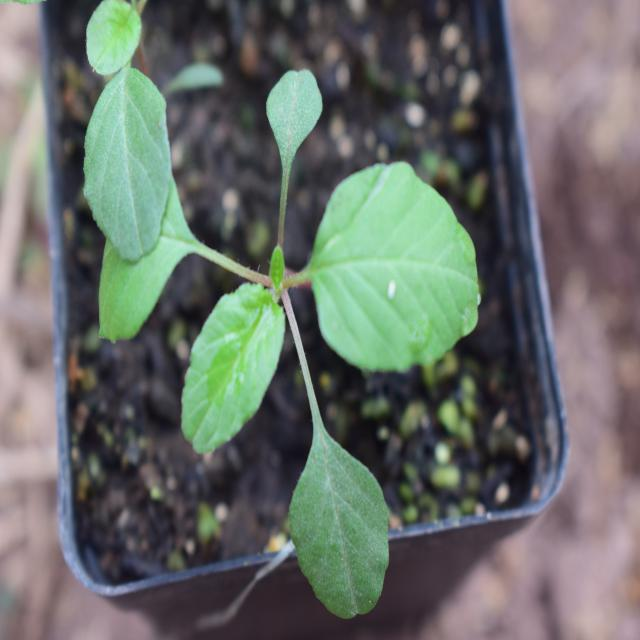pigweed: (70, 76, 474, 587)
